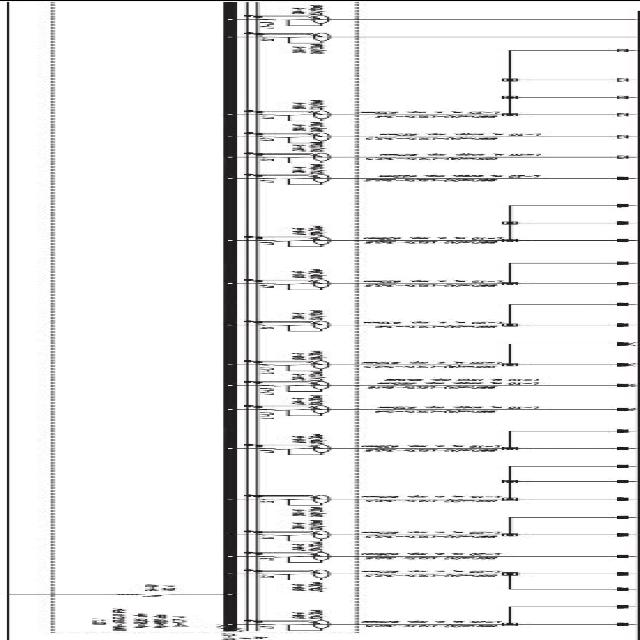-: (108, 607, 131, 631), (288, 162, 330, 174), (286, 608, 328, 620), (288, 120, 330, 132), (288, 518, 330, 530), (290, 42, 332, 54), (288, 98, 330, 110), (286, 432, 328, 443), (288, 141, 330, 152), (288, 394, 330, 405), (288, 506, 330, 517), (286, 370, 328, 381), (288, 4, 330, 15), (288, 581, 330, 592), (288, 225, 330, 236), (288, 540, 330, 551), (288, 350, 330, 360), (288, 268, 330, 278), (288, 310, 330, 320), (143, 583, 180, 591)
QF: (115, 592, 177, 598)
QFD: (256, 172, 331, 185), (258, 319, 332, 332), (259, 234, 333, 247), (256, 359, 331, 371), (260, 404, 334, 416), (259, 380, 333, 392), (261, 618, 335, 630), (258, 568, 332, 580), (258, 550, 332, 562), (259, 529, 333, 541), (260, 494, 334, 506), (259, 443, 333, 455), (259, 278, 333, 290), (259, 150, 333, 162), (259, 130, 333, 142), (259, 109, 333, 121), (259, 30, 333, 42), (258, 14, 332, 26)
